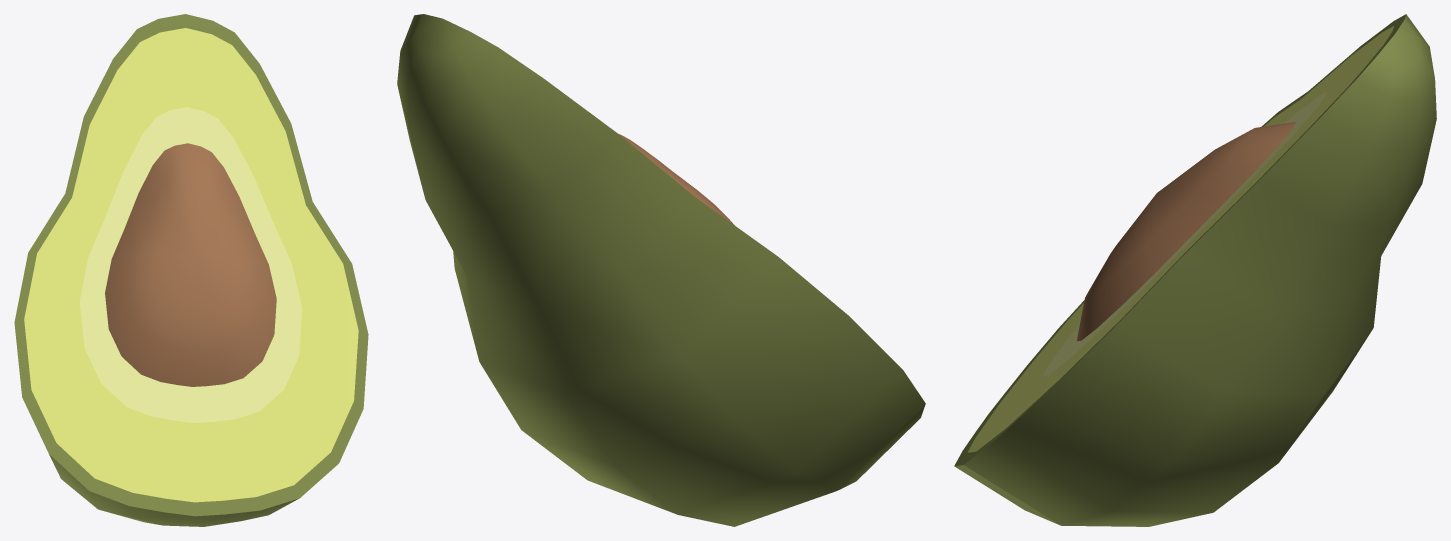
File: SM_Fruits_Avocado_2.fbx
3 renders of one model, left to right at view 1: azimuth 30°, elevation 25°; view 2: azimuth 150°, elevation 25°; view 3: azimuth 270°, elevation 25°, orthographic. The views are drawn at different scales.
Parts seen in each view (by area): view 1: SM_Fruits_Avocado_2; view 2: SM_Fruits_Avocado_2; view 3: SM_Fruits_Avocado_2.
Part boxes in pixels (bbox=[...]): SM_Fruits_Avocado_2: bbox=[14, 14, 368, 526]; SM_Fruits_Avocado_2: bbox=[397, 14, 925, 526]; SM_Fruits_Avocado_2: bbox=[954, 14, 1436, 526].
Size of the model in its own units: 16.6 by 20.53 by 16.71.
